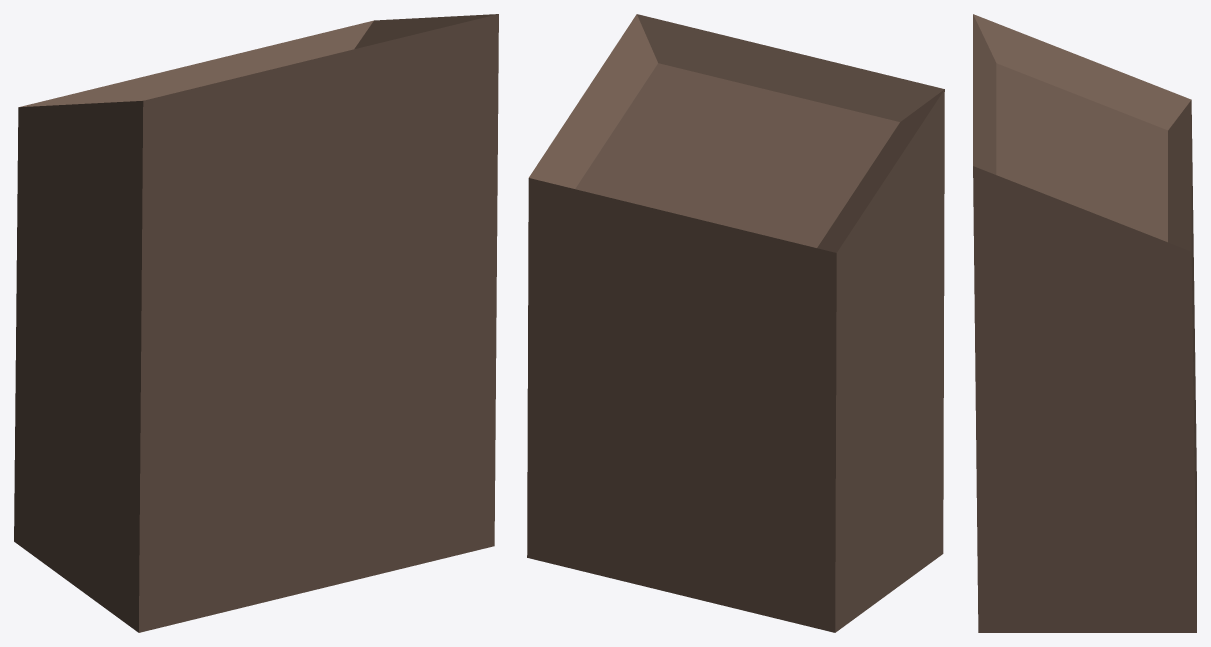
Rendered from Podium.fbx.
3 renders of one model, left to right at view 1: azimuth 30°, elevation 25°; view 2: azimuth 150°, elevation 25°; view 3: azimuth 270°, elevation 25°, orthographic. The views are drawn at different scales.
Parts seen in each view (by area): view 1: Podium1; view 2: Podium1; view 3: Podium1.
Boxes of the visible parts, x1=… form: Podium1: x1=14, y1=14, x2=498, y2=632; Podium1: x1=527, y1=14, x2=944, y2=632; Podium1: x1=973, y1=14, x2=1196, y2=632.
Bounding box in the file's own units: 1.07 × 1.52 × 0.6614.
